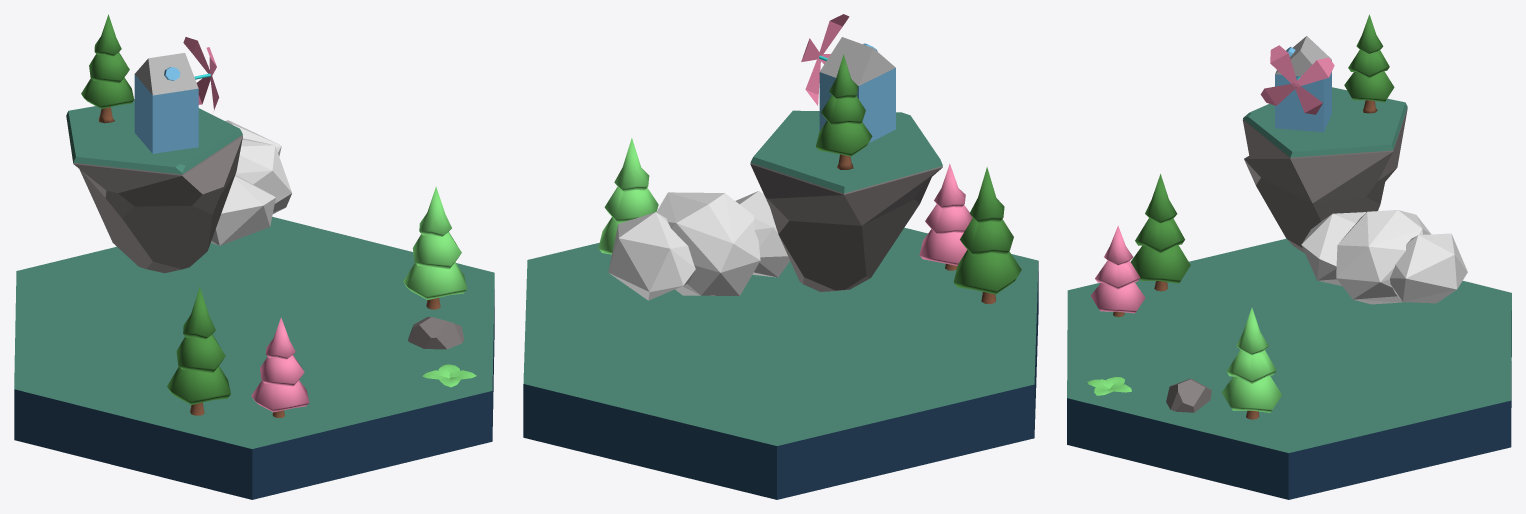
Rendered from Macro - Townhall lvl 456 Wind Land rev.fbx.
The picture shows the model from 3 angles, left to right: view 1: azimuth 30°, elevation 25°; view 2: azimuth 150°, elevation 25°; view 3: azimuth 270°, elevation 25°; orthographic projection. The views are drawn at different scales.
Visible parts, largest first — view 1: Cylinder.049, Icosphere.011, Icosphere.010, milkbox1.001, Cloud_1.004, Tree_Spruce_tiny_01.004, Tree_Spruce_tiny_01.005, Tree_Spruce_tiny_01.006, Tree_Spruce_tiny_01.009, Rock Type2 04 mesh.024, flower4.001, Plane.002; view 2: Cylinder.049, Cloud_1.004, Icosphere.011, Icosphere.010, Tree_Spruce_tiny_01.004, milkbox1.001, Tree_Spruce_tiny_01.009, Tree_Spruce_tiny_01.006, Tree_Spruce_tiny_01.005, flower4.001; view 3: Cylinder.049, Cloud_1.004, Icosphere.011, Icosphere.010, Tree_Spruce_tiny_01.004, Tree_Spruce_tiny_01.005, milkbox1.001, Tree_Spruce_tiny_01.006, Tree_Spruce_tiny_01.009, flower4.001, Rock Type2 04 mesh.024, Plane.002.
Part boxes in pixels (box(x1,y1,x2,y2)): Cylinder.049: box(14, 217, 494, 499); Icosphere.011: box(66, 116, 242, 273); Icosphere.010: box(66, 99, 242, 174); milkbox1.001: box(134, 53, 198, 153); Cloud_1.004: box(211, 120, 291, 245); Tree_Spruce_tiny_01.004: box(167, 287, 230, 415); Tree_Spruce_tiny_01.005: box(403, 186, 466, 309); Tree_Spruce_tiny_01.006: box(251, 317, 309, 417); Tree_Spruce_tiny_01.009: box(81, 14, 134, 123); Rock Type2 04 mesh.024: box(408, 317, 463, 349); flower4.001: box(183, 37, 219, 110); Plane.002: box(422, 364, 476, 387); Cylinder.049: box(523, 227, 1038, 499); Cloud_1.004: box(608, 191, 790, 300); Icosphere.011: box(750, 163, 942, 291); Icosphere.010: box(750, 110, 942, 193); Tree_Spruce_tiny_01.004: box(953, 167, 1021, 304); milkbox1.001: box(819, 37, 895, 142); Tree_Spruce_tiny_01.009: box(816, 54, 872, 169); Tree_Spruce_tiny_01.006: box(919, 163, 972, 270); Tree_Spruce_tiny_01.005: box(598, 138, 658, 254); flower4.001: box(801, 14, 849, 105); Cylinder.049: box(1067, 238, 1511, 499); Cloud_1.004: box(1301, 210, 1467, 304); Icosphere.011: box(1242, 108, 1407, 253); Icosphere.010: box(1243, 87, 1407, 157); Tree_Spruce_tiny_01.004: box(1131, 174, 1190, 291); Tree_Spruce_tiny_01.005: box(1221, 307, 1281, 419); milkbox1.001: box(1275, 36, 1331, 132); Tree_Spruce_tiny_01.006: box(1090, 225, 1145, 317); Tree_Spruce_tiny_01.009: box(1344, 14, 1394, 113); flower4.001: box(1260, 45, 1334, 114); Rock Type2 04 mesh.024: box(1166, 378, 1211, 412); Plane.002: box(1087, 377, 1131, 395).
Size of the model in its own units: 197 by 142 by 172.
